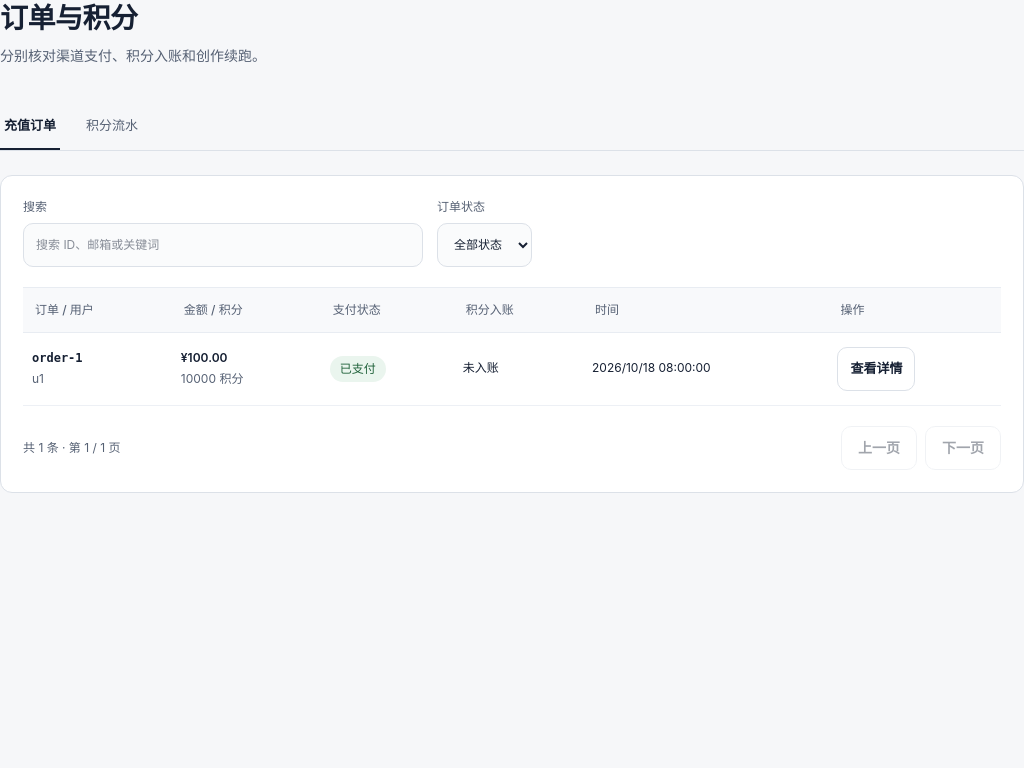
Test: order detail distinguishes payment, credited state, run and unknown refund; query does not resubmit
What coordinates should you click on to do the following:
click the button with aria-label "查看订单 order-1"
I would click on:
 (876, 369)
Its box is 838,347 -> 916,391.
(page scrolled)
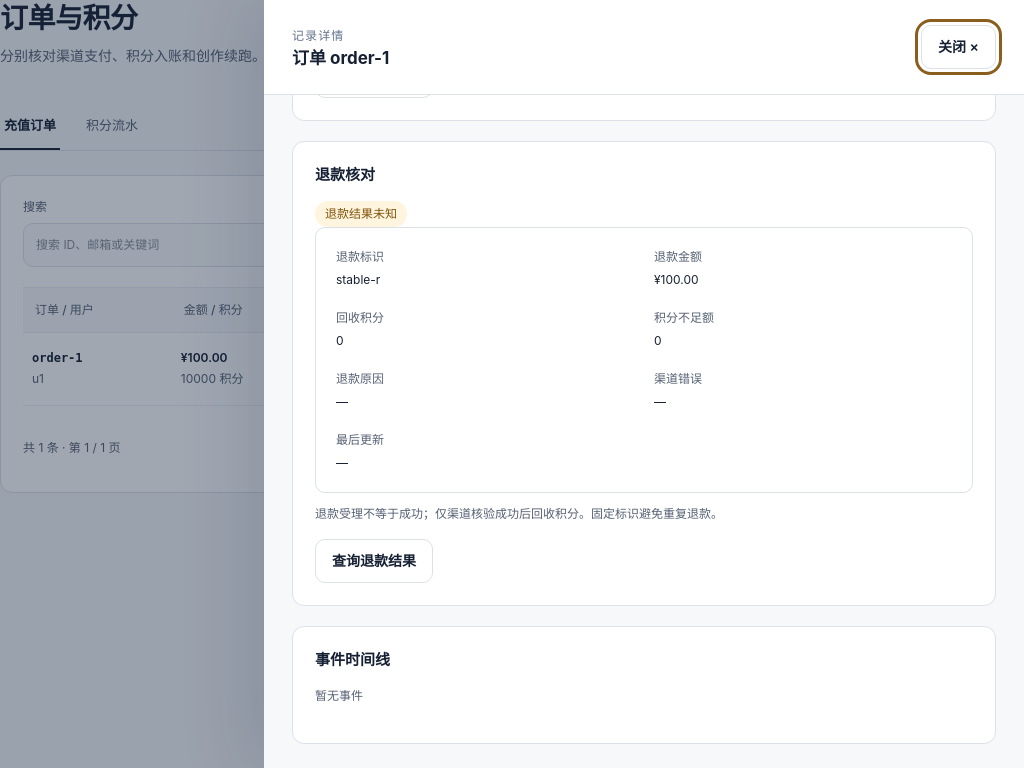
Expected: the dialog is shown
Expected: the text "退款结果未知" is shown, 315,201 -> 407,227
What coordinates should you click on to do the following:
click the button "查询退款结果"
I would click on:
 (374, 561)
Its box is 315,539 -> 433,583.
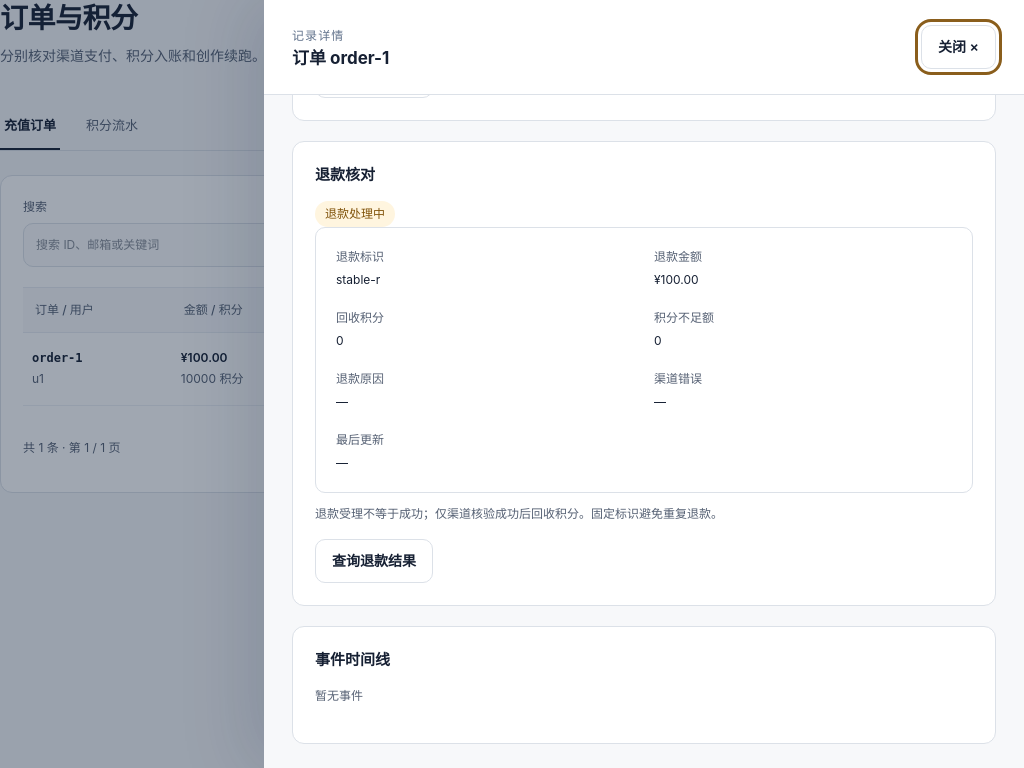
Expected: the text "退款处理中" is shown, 315,201 -> 395,227
